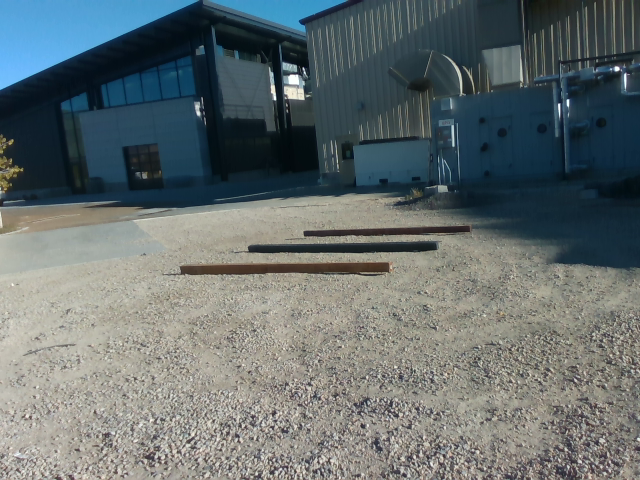Dunnage: (164, 222, 479, 283)
